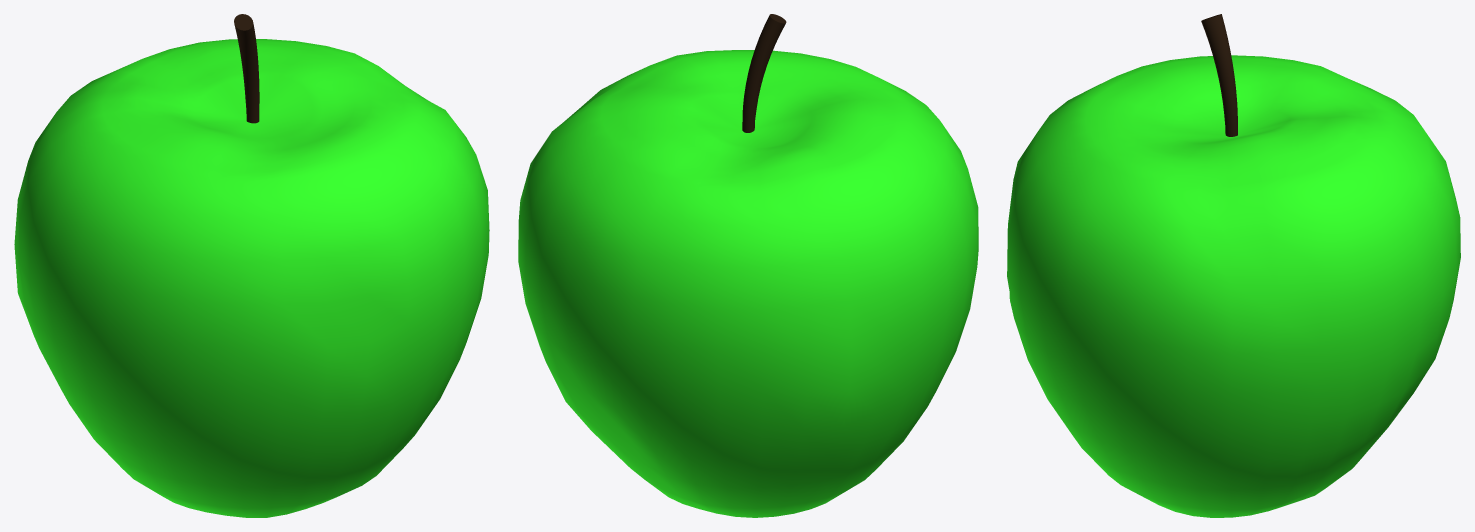
The model's file is N_Apple.fbx.
3 renders of one model, left to right at view 1: azimuth 30°, elevation 25°; view 2: azimuth 150°, elevation 25°; view 3: azimuth 270°, elevation 25°, orthographic. The views are drawn at different scales.
Visible parts, largest first — view 1: Apple; view 2: Apple; view 3: Apple.
Part boxes in pixels (x1,y1,x2,y2): Apple: (14,14,489,517); Apple: (518,14,978,517); Apple: (1007,14,1460,517).
Size of the model in its own units: 7.3 by 8.21 by 7.23.
